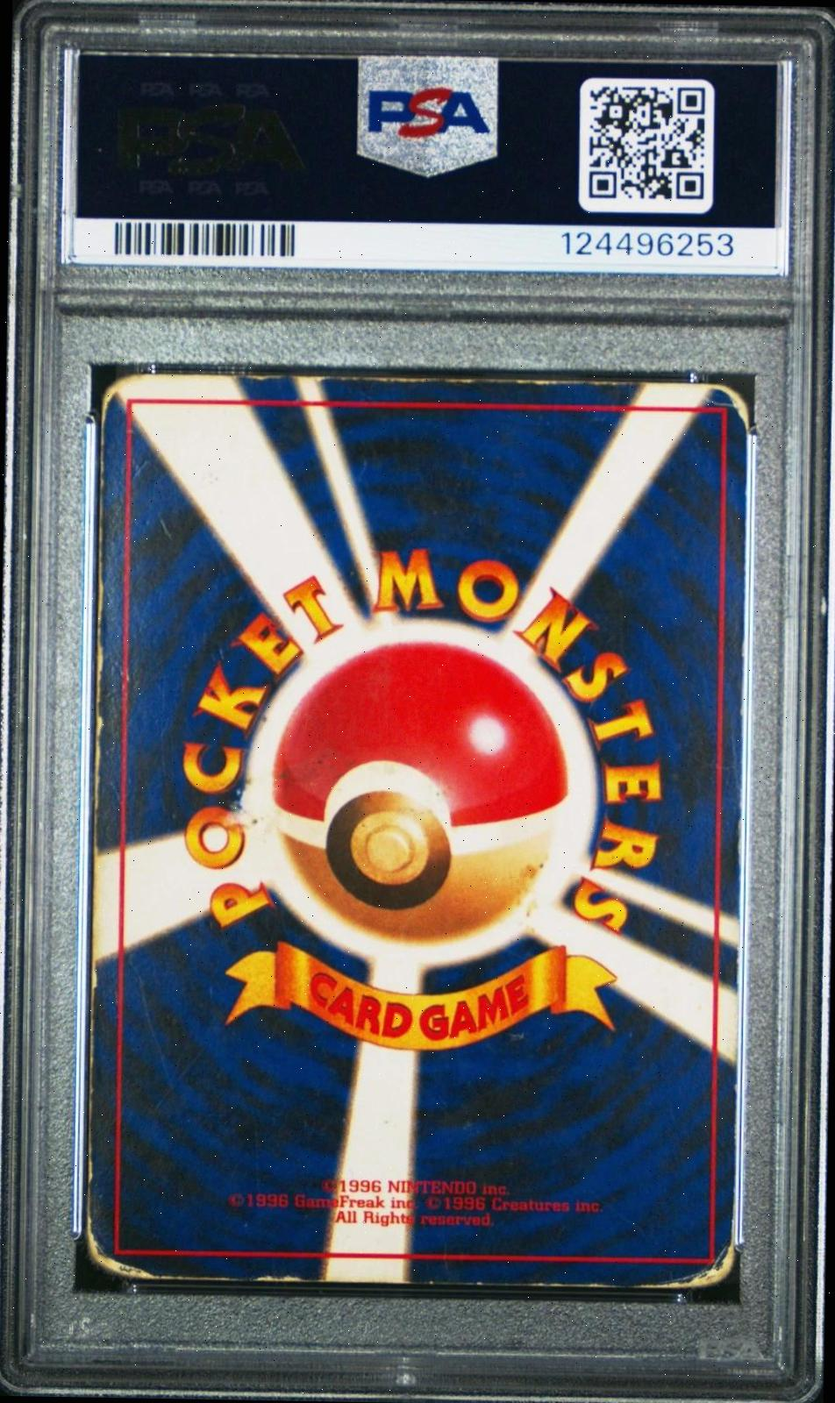card-2UtV: (84, 373, 749, 1290)
